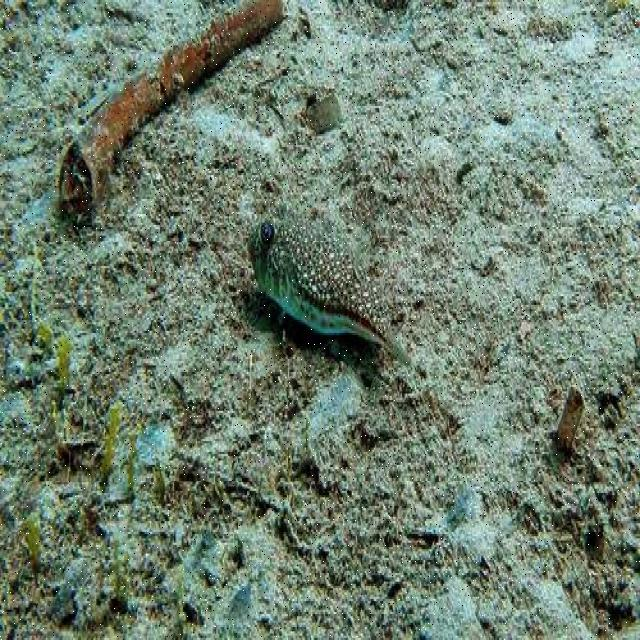Balik: (249, 221, 409, 363)
